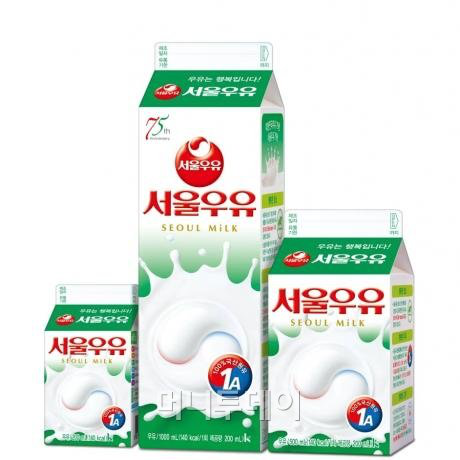milk: (136, 41, 284, 453), (268, 208, 418, 456), (43, 285, 139, 448)
